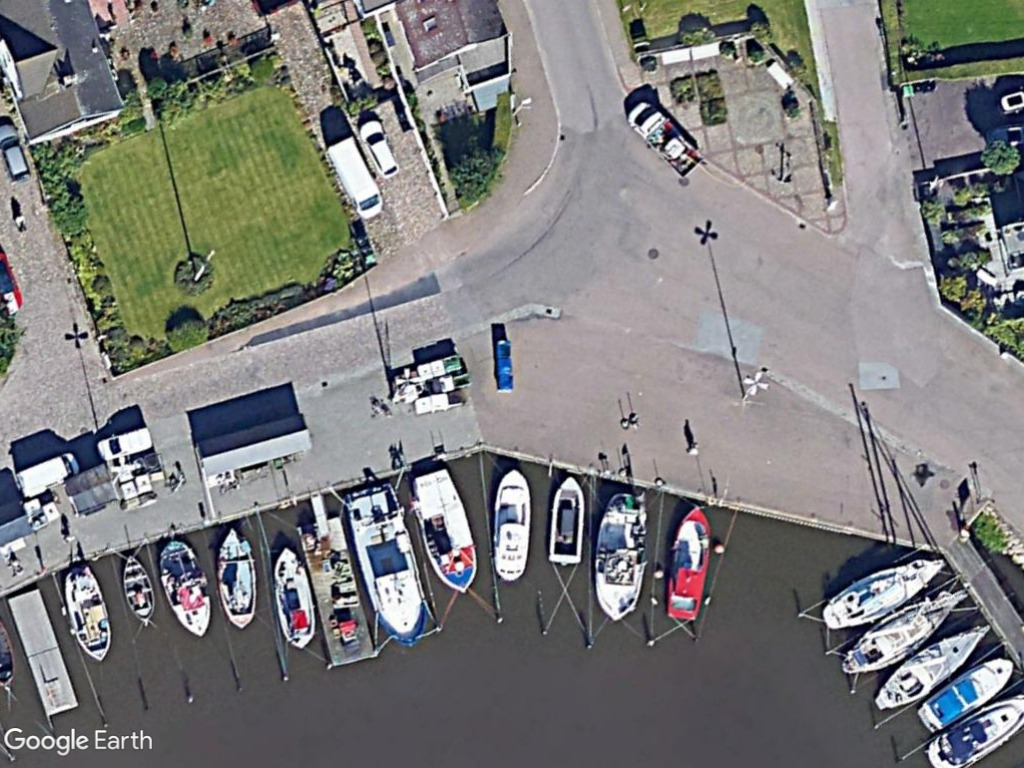boat: (344, 481, 431, 650), (837, 584, 969, 680), (865, 616, 991, 714), (814, 551, 949, 635), (405, 465, 478, 599), (911, 654, 1015, 736), (590, 487, 650, 623), (923, 696, 1023, 768), (660, 502, 718, 625), (151, 535, 215, 642), (212, 517, 264, 634), (59, 561, 114, 665), (487, 462, 533, 586), (270, 541, 318, 654), (544, 470, 587, 571), (119, 549, 157, 628)
car: (355, 115, 401, 181)
van: (323, 134, 388, 223), (10, 446, 82, 503), (92, 421, 155, 466)
